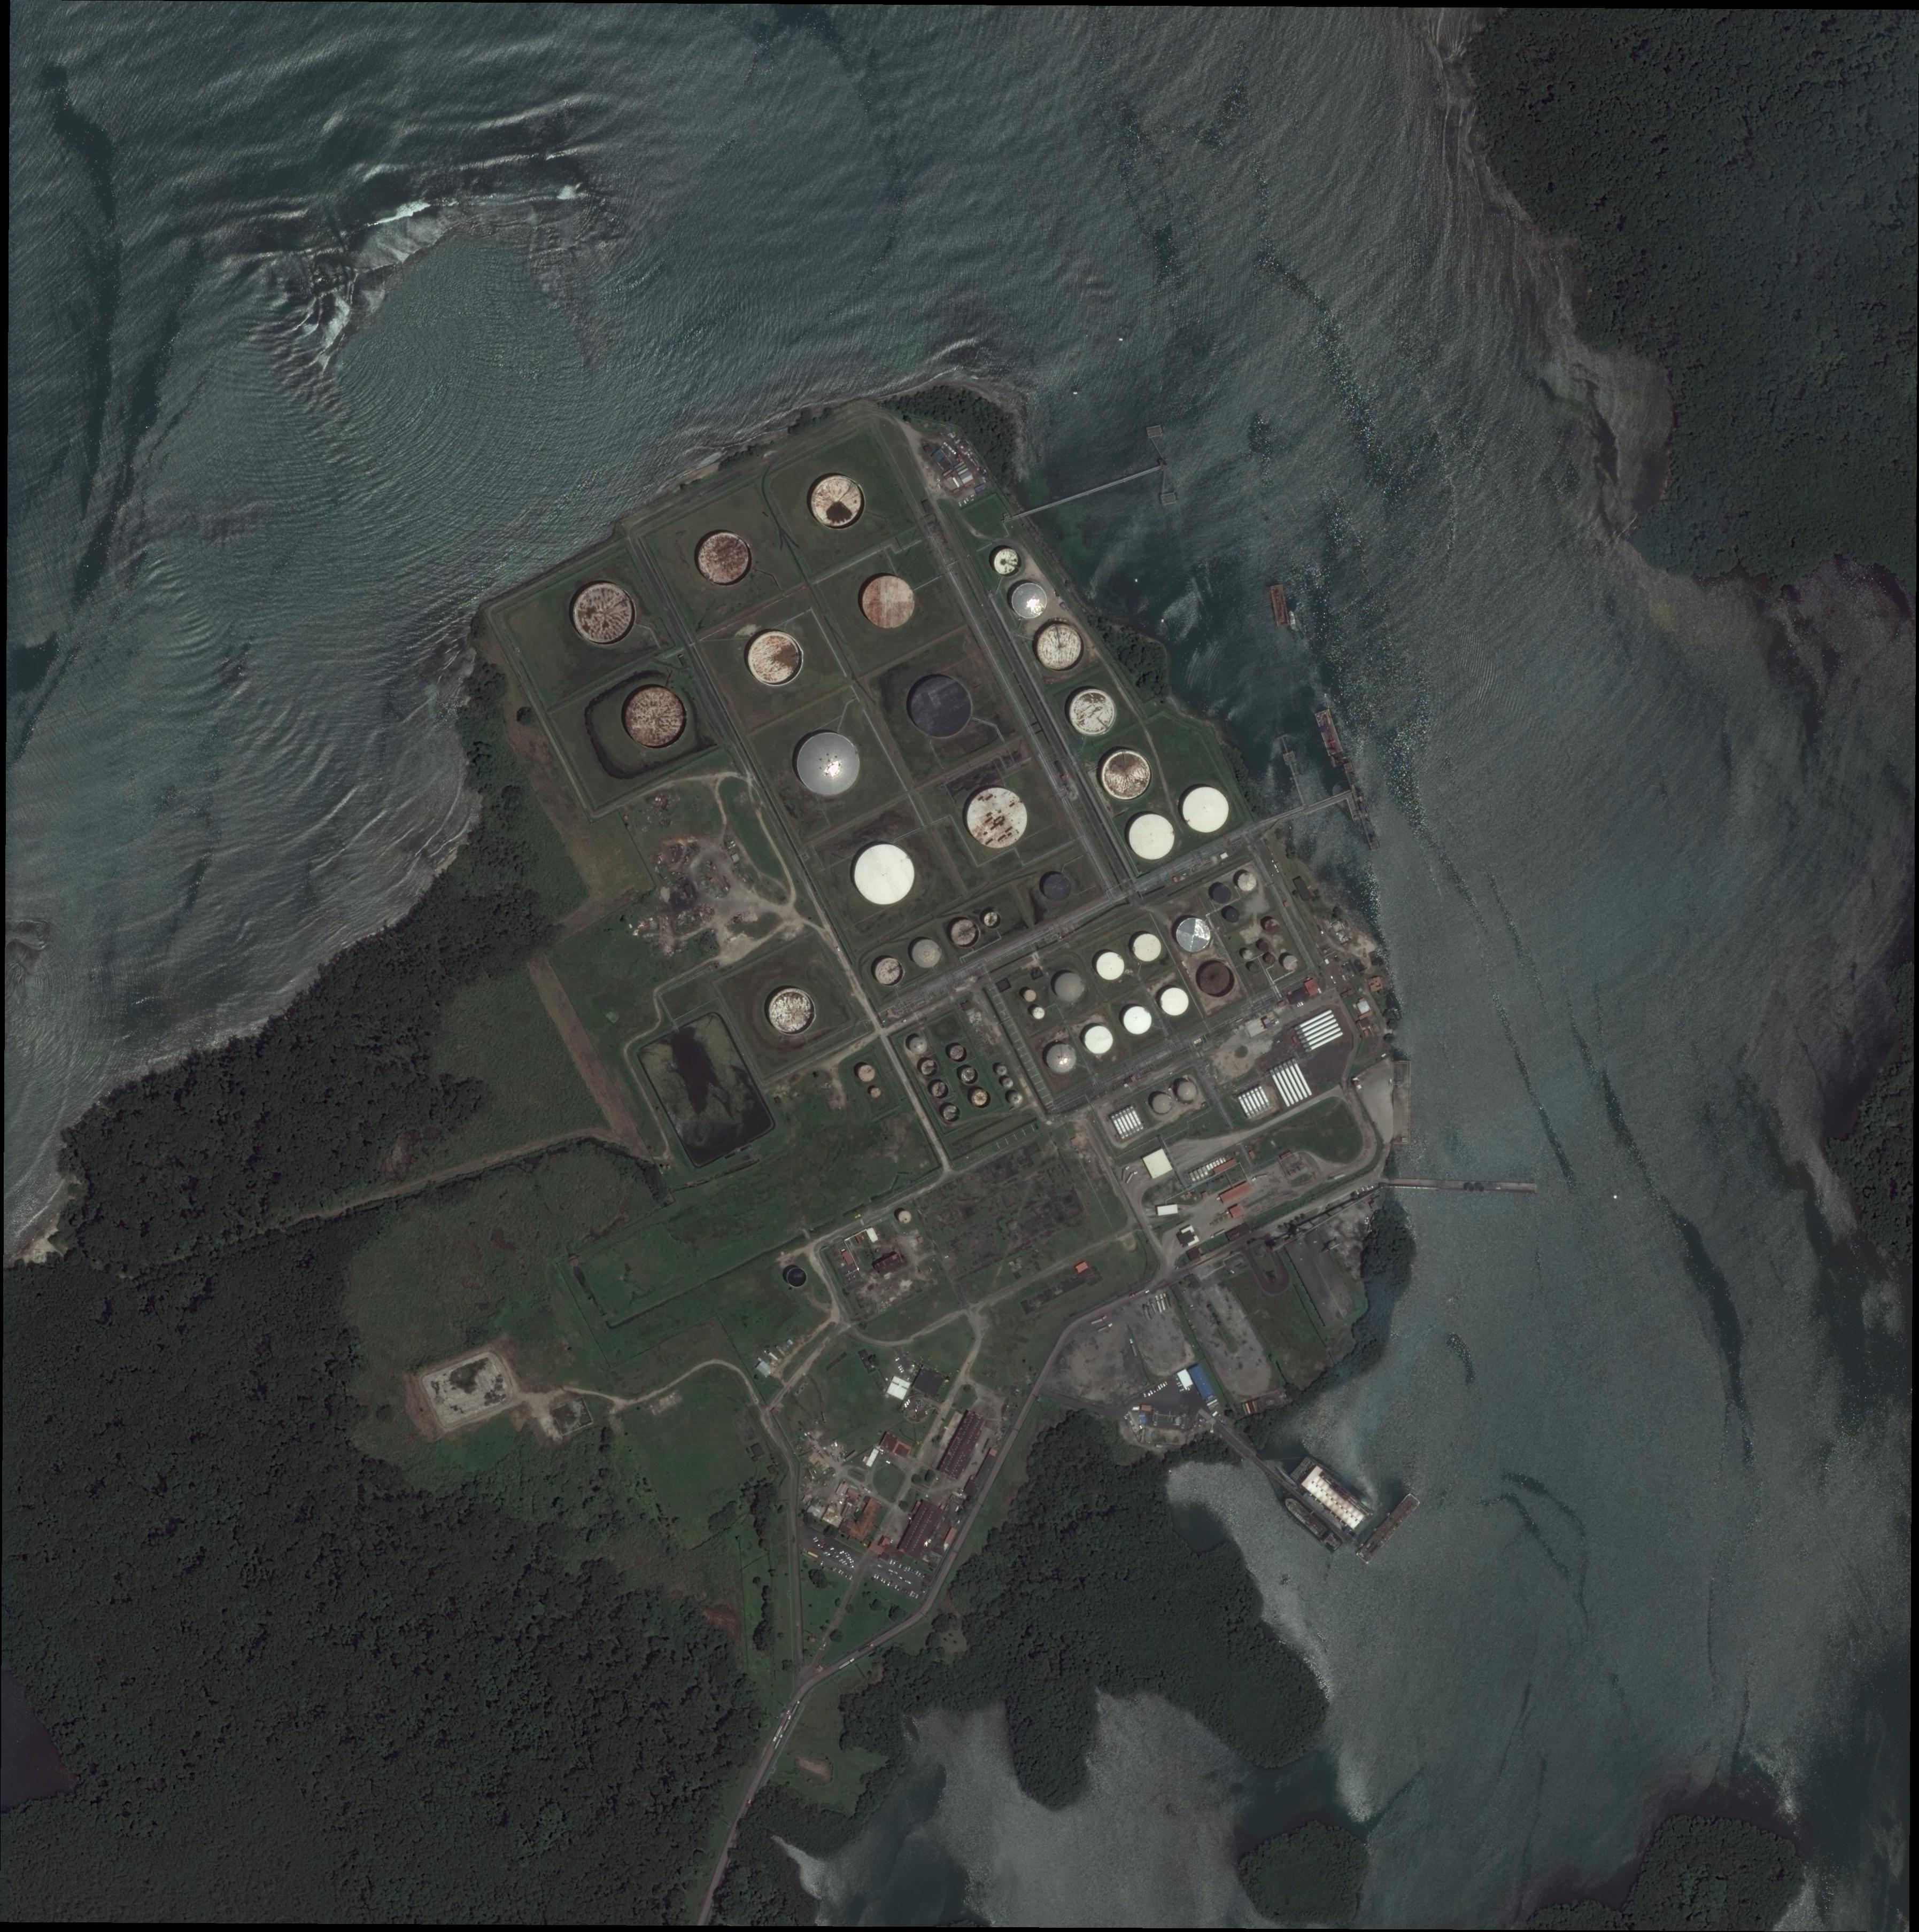harbor: (993, 420, 1190, 560), (1260, 790, 1360, 848), (1353, 1489, 1425, 1567), (1392, 1175, 1539, 1194), (1276, 734, 1313, 806)
ship: (1278, 1493, 1346, 1556), (1313, 706, 1344, 757), (1269, 583, 1290, 629), (1286, 609, 1299, 631)
